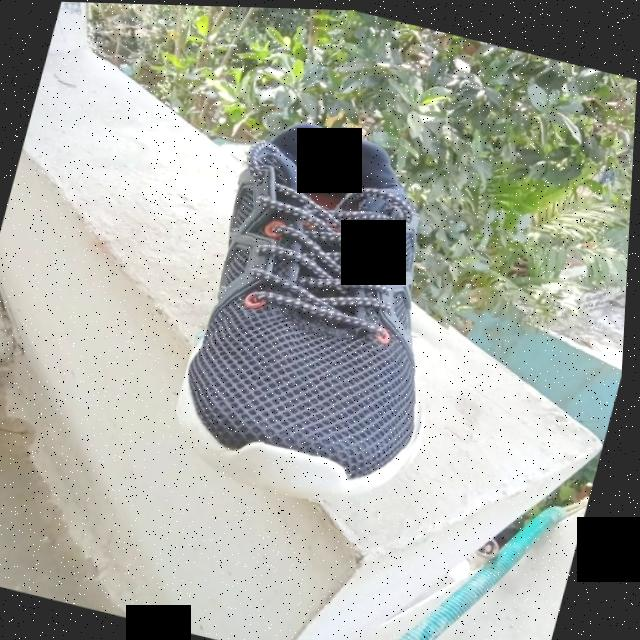shoe: (163, 101, 500, 522)
